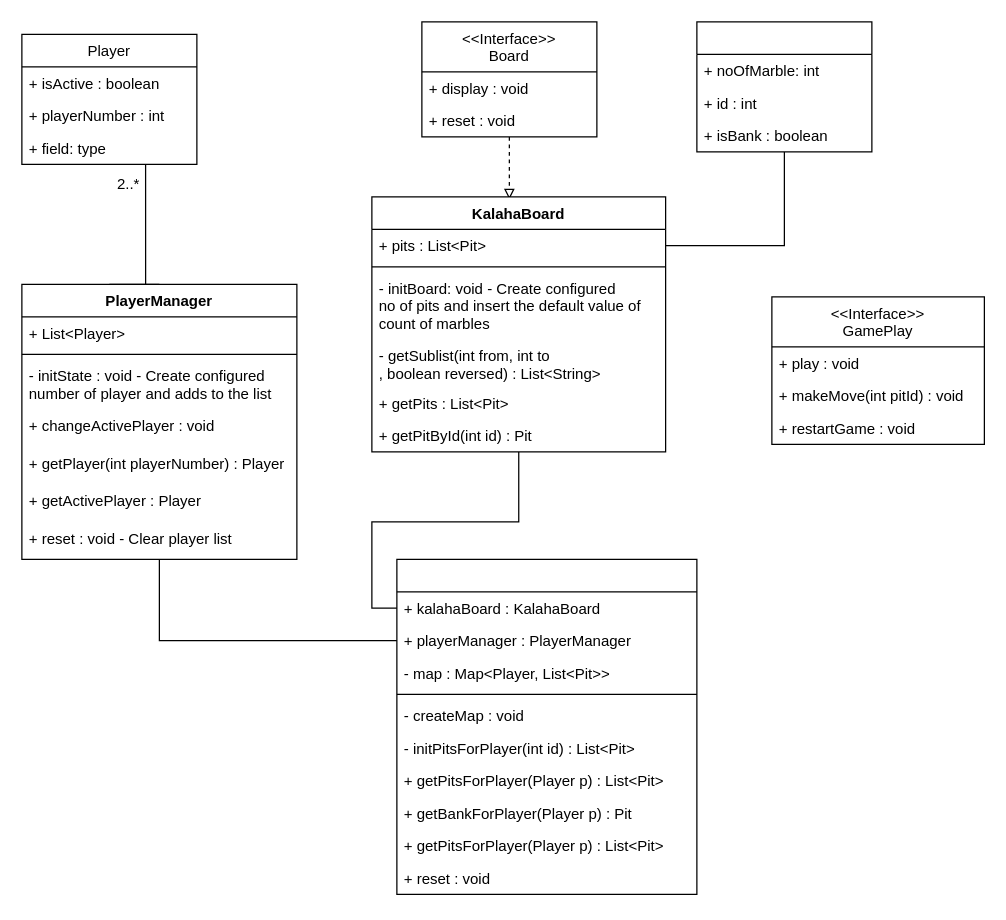
Image size: 1006x920. Some labels were removed from this diagram. Here are the shapes that lost their labels. From the top down, the box of each, then its label:
(696, 21, 872, 152): Pit
(396, 558, 697, 894): PlayerToPitMapper
